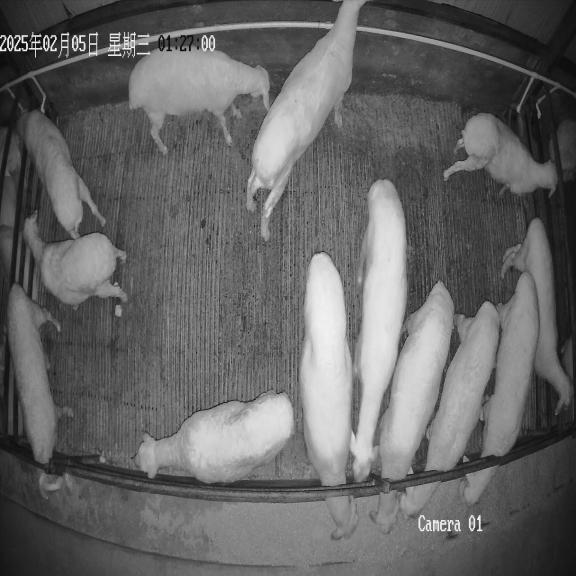drinking: (18, 110, 106, 238)
eating: (400, 302, 499, 517), (370, 281, 454, 533), (460, 272, 539, 504), (299, 252, 358, 540)
stand: (246, 0, 367, 240), (350, 180, 407, 482), (129, 48, 270, 154), (135, 390, 294, 483), (7, 283, 72, 499), (502, 218, 573, 412), (23, 213, 126, 309), (443, 113, 557, 196)
